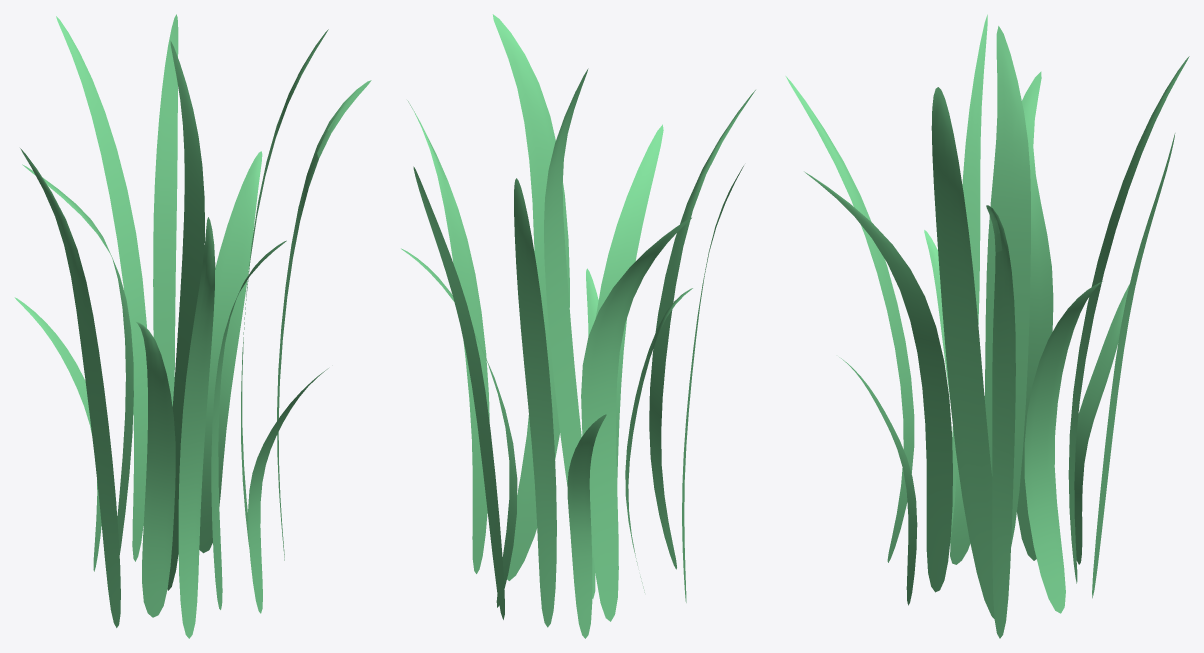
File: grass1_v5.fbx
3 views of the same model, side by side, from view 1: azimuth 30°, elevation 25°; view 2: azimuth 150°, elevation 25°; view 3: azimuth 270°, elevation 25° (orthographic). The views are drawn at different scales.
Visible parts, largest first — view 1: Plane.006; view 2: Plane.006; view 3: Plane.006.
Boxes of the visible parts, x1,y1,x2,y2 form: Plane.006: (14, 14, 371, 638); Plane.006: (401, 14, 755, 638); Plane.006: (785, 14, 1189, 638).
Size of the model in its own units: 140 by 212 by 139.
